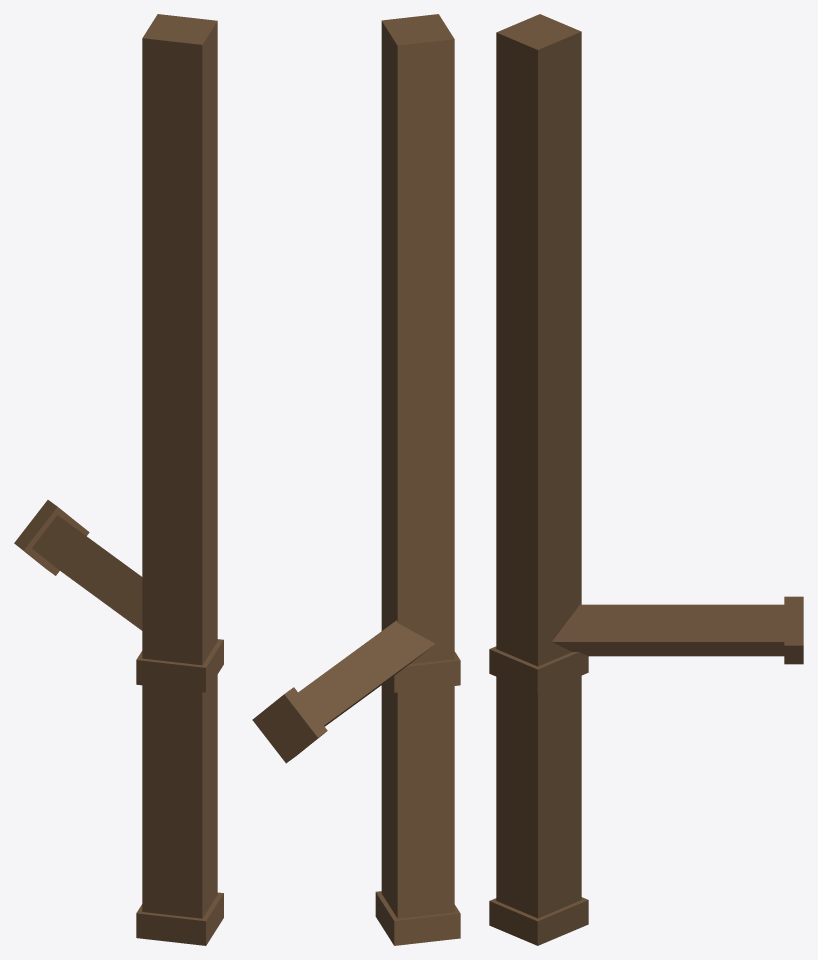
File: Item_Tonfa00.FBX
3 views of the same model, side by side, from view 1: azimuth 30°, elevation 25°; view 2: azimuth 150°, elevation 25°; view 3: azimuth 270°, elevation 25° (orthographic).
Visible parts, largest first — view 1: Item_Tonfa00; view 2: Item_Tonfa00; view 3: Item_Tonfa00.
Part boxes in pixels (box(x1,y1,x2,y2)): Item_Tonfa00: box(14, 14, 223, 945); Item_Tonfa00: box(252, 14, 460, 945); Item_Tonfa00: box(489, 14, 803, 945).
Size of the model in its own units: 5.88 by 58.39 by 18.62.
